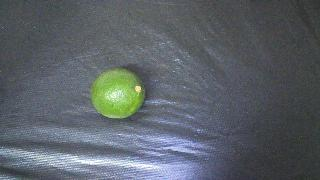LOCAL: (90, 68, 145, 118)
